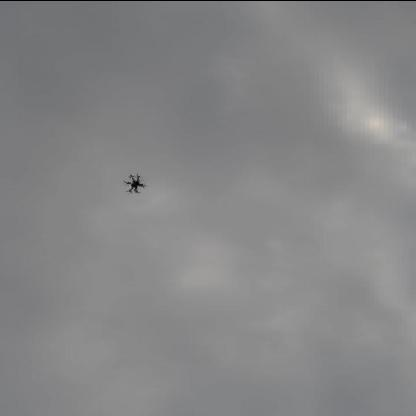drone: (122, 170, 149, 198)
